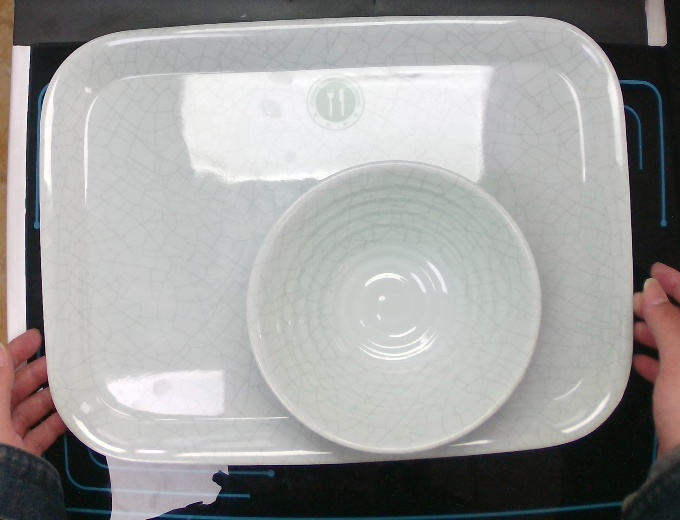JYsf-Xiao_Tang_Wan: (243, 152, 546, 455)
